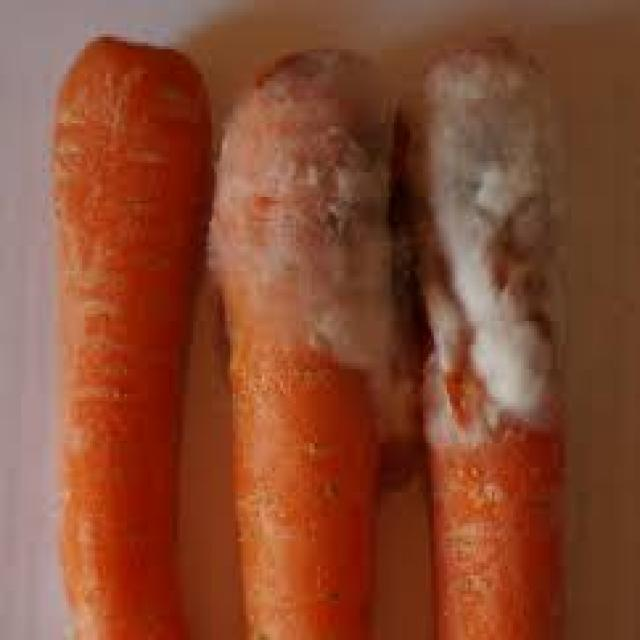Fresh_Carrot: (48, 46, 216, 636)
Stale_Carrot: (219, 39, 408, 640), (408, 50, 570, 640)
